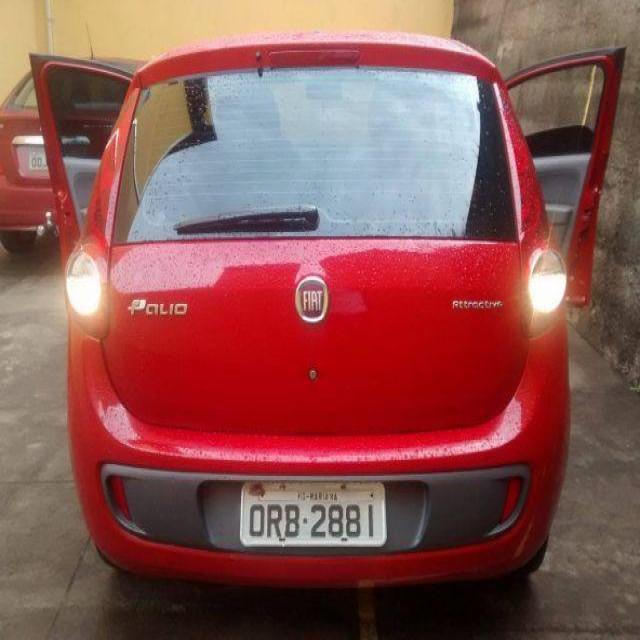Placa: (239, 477, 389, 549)
